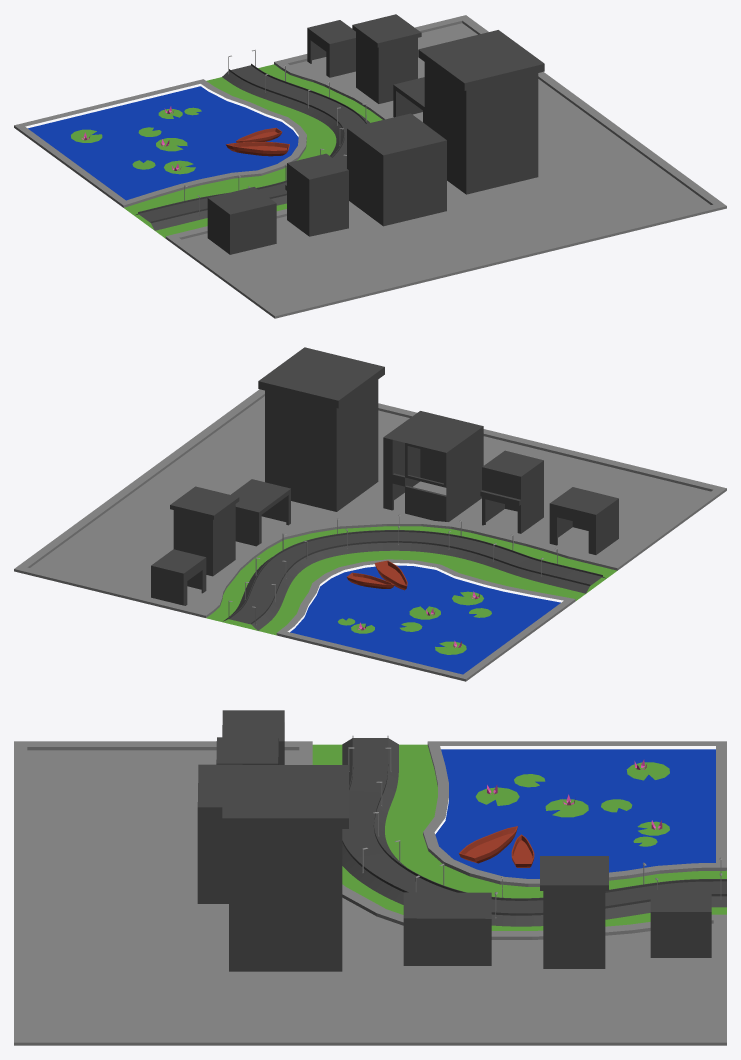
3 renders of one model, top to bottom at view 1: azimuth 30°, elevation 25°; view 2: azimuth 150°, elevation 25°; view 3: azimuth 270°, elevation 25°, orthographic. The views are drawn at different scales.
Visible parts, largest first — view 1: Plane; view 2: Plane; view 3: Plane.
Part boxes in pixels (x1,y1,x2,y2): Plane: (14,14,726,318); Plane: (14,347,726,681); Plane: (14,710,726,1045).
Bounding box in the file's own units: 20000 × 4876 × 20000.
